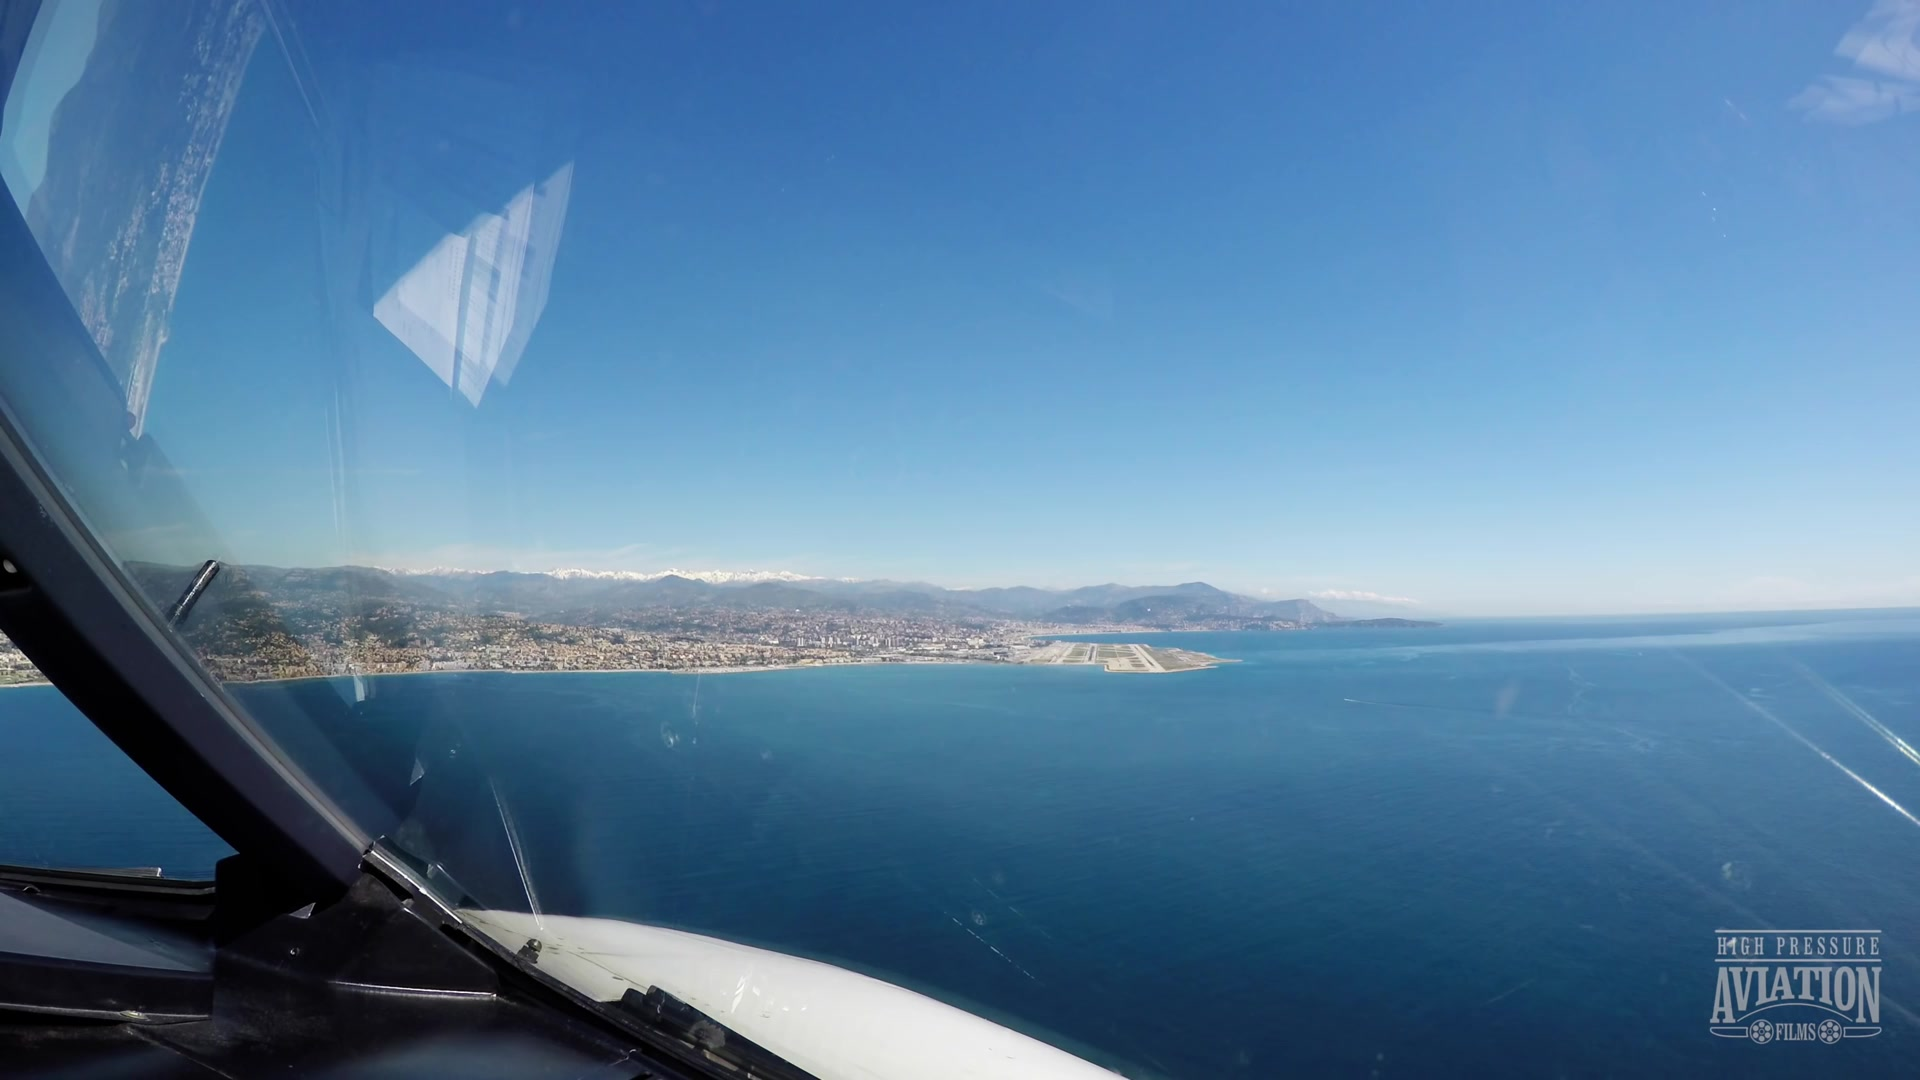runway: (1127, 644, 1167, 673), (1083, 642, 1098, 665)
